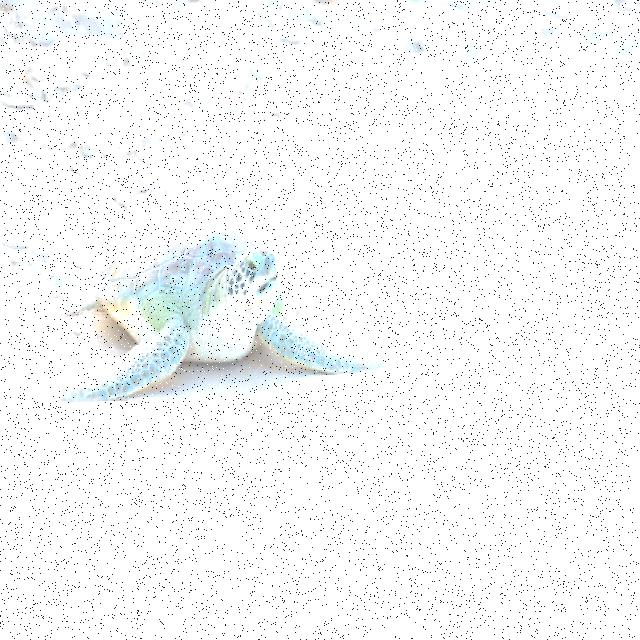tortoise: (55, 230, 392, 422)
